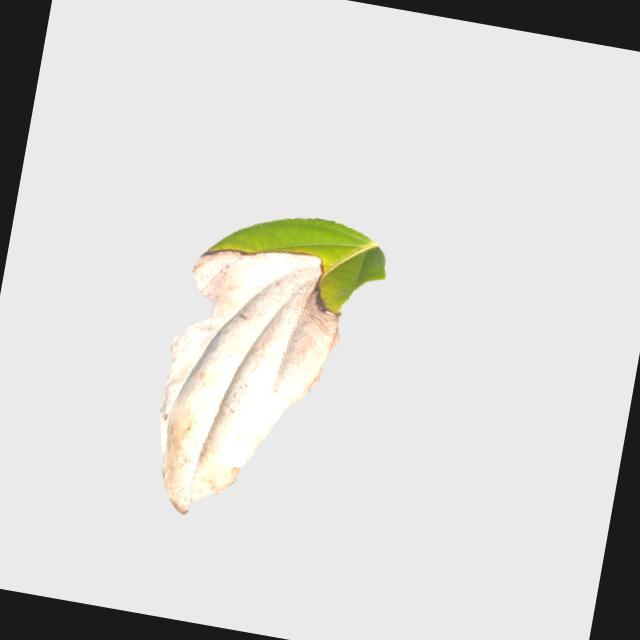leaf-blight: (140, 192, 410, 547)
